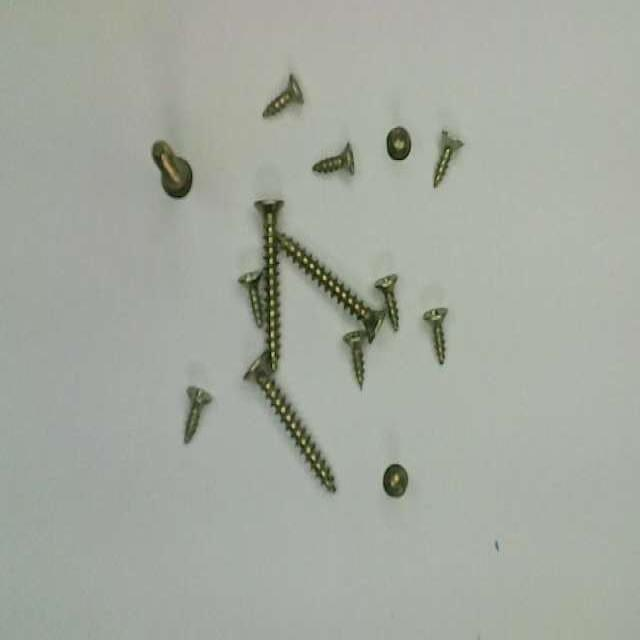Parafuso: (245, 350, 336, 490), (275, 233, 386, 343), (255, 201, 283, 369), (152, 143, 192, 201), (265, 75, 305, 118), (434, 132, 463, 187), (184, 383, 211, 440), (375, 273, 399, 328), (342, 328, 365, 385), (424, 311, 447, 367), (238, 269, 261, 323), (312, 144, 353, 174), (384, 463, 408, 495), (387, 131, 410, 163)
